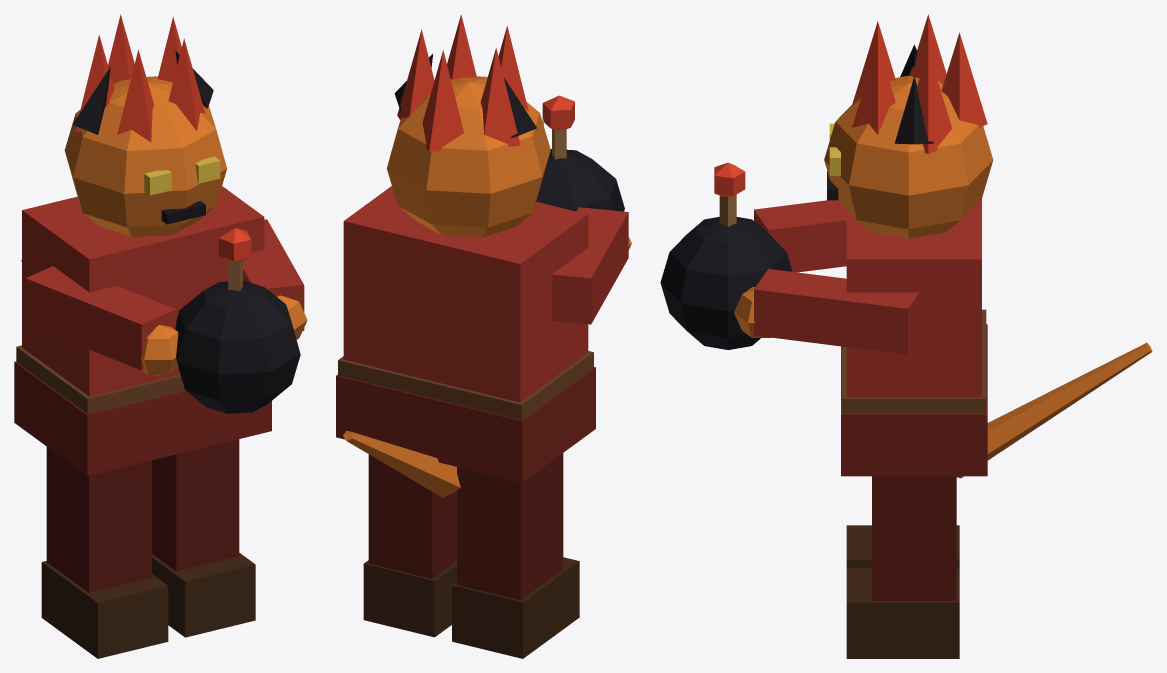
File: e_fireimp.fbx
3 renders of one model, left to right at view 1: azimuth 30°, elevation 25°; view 2: azimuth 150°, elevation 25°; view 3: azimuth 270°, elevation 25°, orthographic.
Visible parts, largest first — view 1: e_fireimp_Body, e_fireimp_LegR, e_fireimp_LegL; view 2: e_fireimp_Body, e_fireimp_LegR, e_fireimp_LegL; view 3: e_fireimp_Body, e_fireimp_LegL, e_fireimp_LegR.
Boxes of the visible parts, left/top/right/bottom form: e_fireimp_Body: left=14, top=14, right=307, bottom=475; e_fireimp_LegR: left=41, top=447, right=168, bottom=658; e_fireimp_LegL: left=152, top=439, right=255, bottom=637; e_fireimp_Body: left=336, top=14, right=631, bottom=497; e_fireimp_LegR: left=452, top=453, right=579, bottom=658; e_fireimp_LegL: left=363, top=454, right=456, bottom=637; e_fireimp_Body: left=660, top=14, right=1152, bottom=478; e_fireimp_LegL: left=846, top=476, right=959, bottom=658; e_fireimp_LegR: left=846, top=525, right=959, bottom=568.
Bounding box in the file's own units: 0.4977 × 1.15 × 0.8721.
